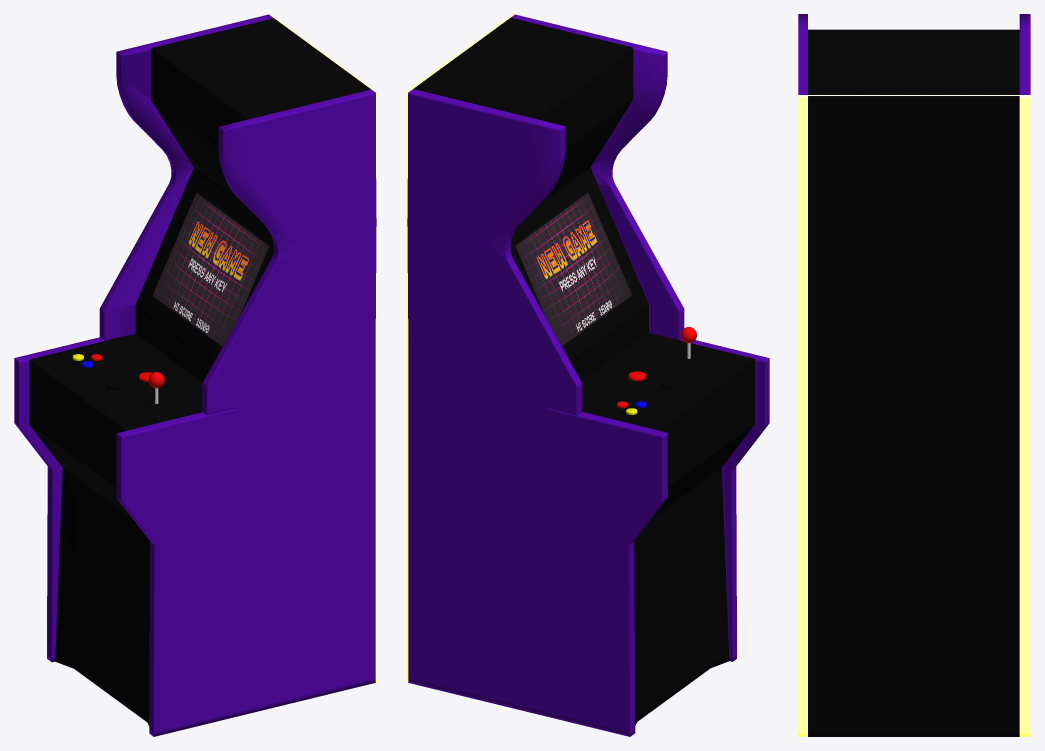
Rendered from Arcade console.glb.
3 views of the same model, side by side, from view 1: azimuth 30°, elevation 25°; view 2: azimuth 150°, elevation 25°; view 3: azimuth 270°, elevation 25° (orthographic). The views are drawn at different scales.
Visible parts, largest first — view 1: Arcade; view 2: Arcade; view 3: Arcade.
Boxes of the visible parts, x1,y1,x2,y2 form: Arcade: (14,14,377,736); Arcade: (406,14,769,736); Arcade: (798,14,1030,736).
Bounding box in the file's own units: 1.01 × 2.22 × 0.7297.
8 materials, 1 textured.
